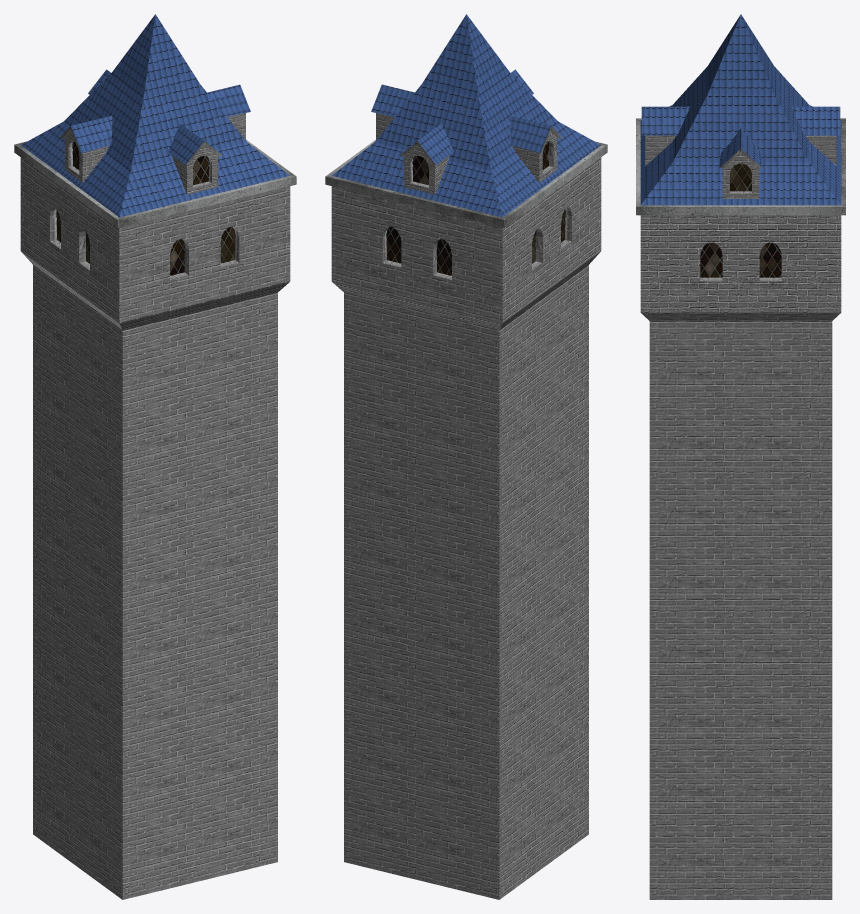
The model's file is RoofWindows.fbx.
3 views of the same model, side by side, from view 1: azimuth 30°, elevation 25°; view 2: azimuth 150°, elevation 25°; view 3: azimuth 270°, elevation 25° (orthographic).
Visible parts, largest first — view 1: RoofWindows; view 2: RoofWindows; view 3: RoofWindows.
Part boxes in pixels (x1,y1,x2,y2): RoofWindows: (14,14,296,899); RoofWindows: (325,14,607,899); RoofWindows: (636,14,845,899).
Bounding box in the file's own units: 759 × 3383 × 759.
